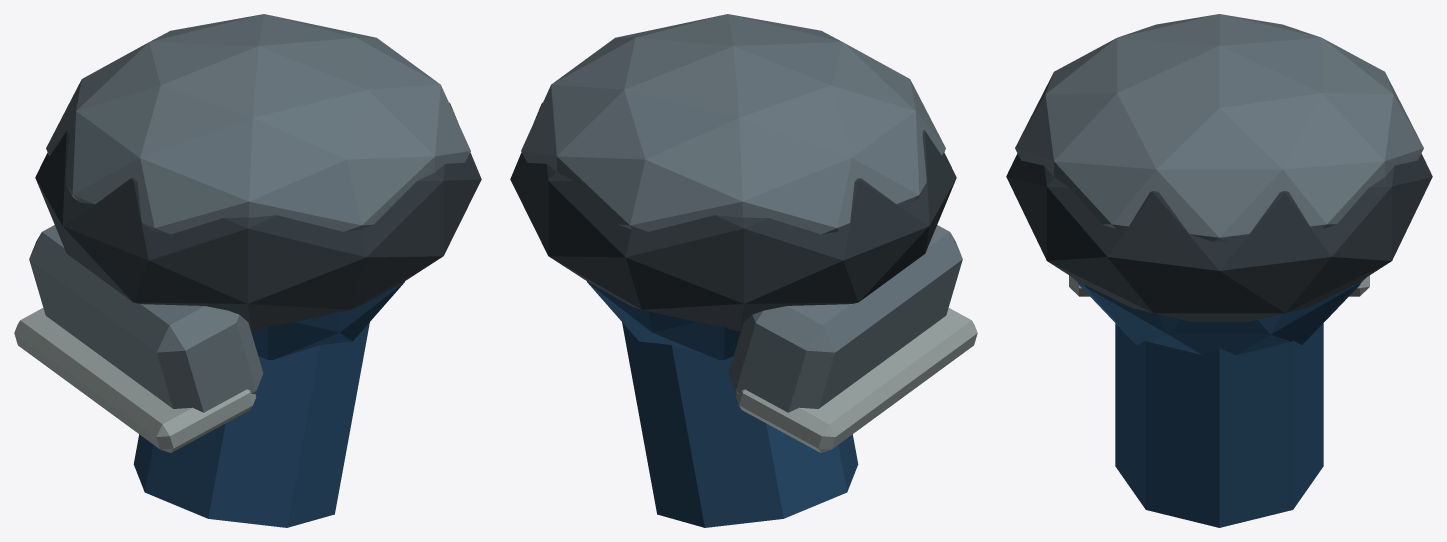
Rendered from ArmLeft.glb.
3 views of the same model, side by side, from view 1: azimuth 30°, elevation 25°; view 2: azimuth 150°, elevation 25°; view 3: azimuth 270°, elevation 25° (orthographic).
Visible parts, largest first — view 1: Sculpture; view 2: Sculpture; view 3: Sculpture.
Boxes of the visible parts, x1,y1,x2,y2 form: Sculpture: [14, 14, 481, 527]; Sculpture: [510, 14, 977, 527]; Sculpture: [1006, 14, 1432, 527].
Size of the model in its own units: 0.356 by 0.3963 by 0.34.
